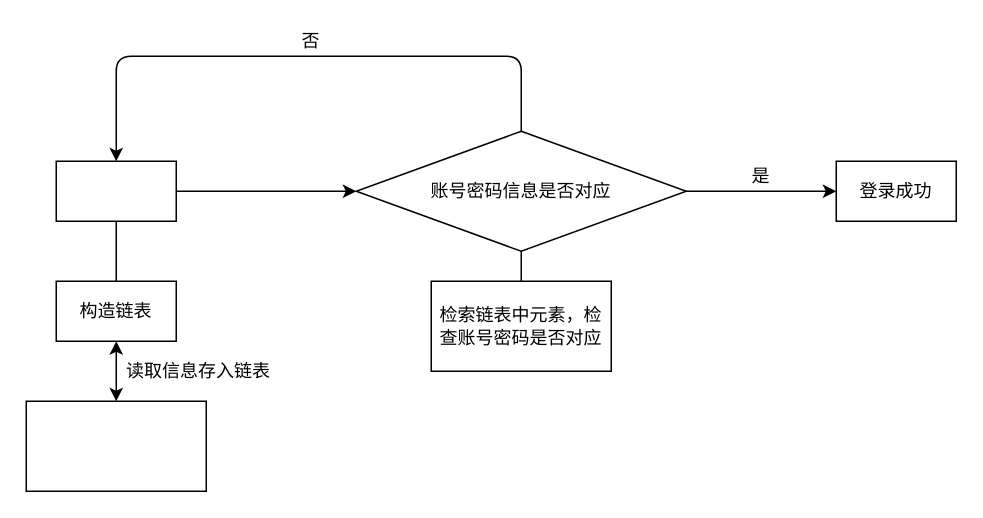
The diagram is 983 pixels wide and 518 high, and some of its shapes have lost their labels. Each missing label, with the box of its shape:
文件中用户账号密码的信息: (25, 400, 206, 491)
登录: (55, 160, 176, 221)
